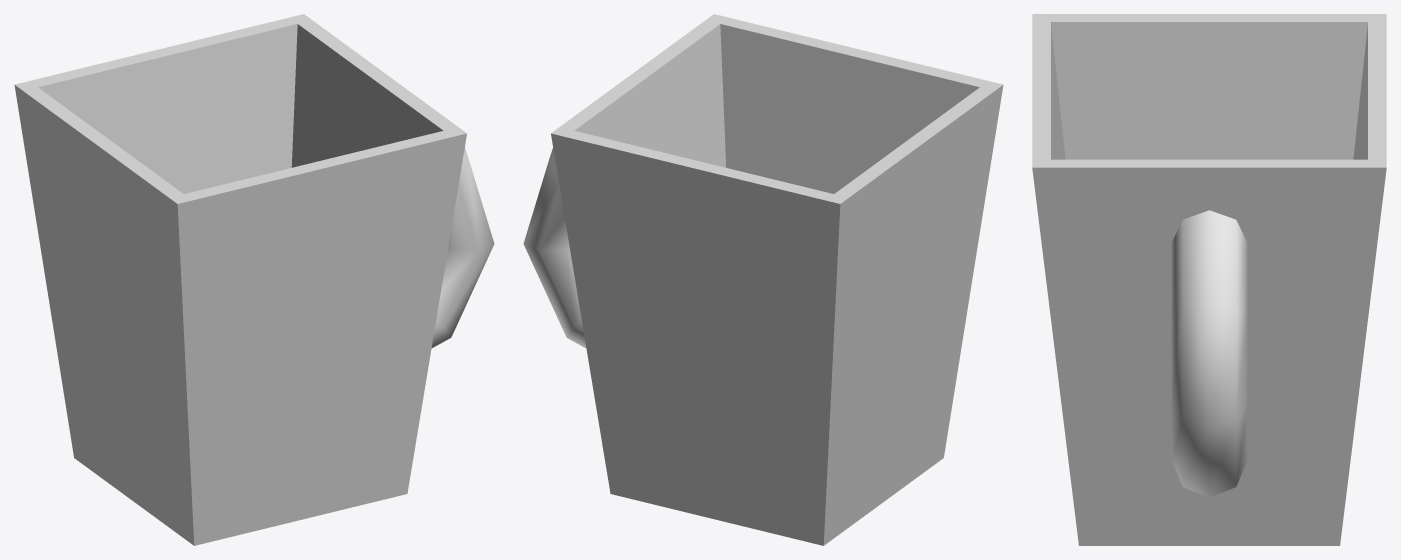
The model's file is Itr_Obj_Cup1_06.FBX.
3 views of the same model, side by side, from view 1: azimuth 30°, elevation 25°; view 2: azimuth 150°, elevation 25°; view 3: azimuth 270°, elevation 25° (orthographic). The views are drawn at different scales.
Parts seen in each view (by area): view 1: Itr_Obj_Cup1_06; view 2: Itr_Obj_Cup1_06; view 3: Itr_Obj_Cup1_06.
Part boxes in pixels (x1,y1,x2,y2): Itr_Obj_Cup1_06: (14,14,494,545); Itr_Obj_Cup1_06: (523,14,1003,545); Itr_Obj_Cup1_06: (1032,14,1386,545).
Bounding box in the file's own units: 6.33 × 5.62 × 4.53.
